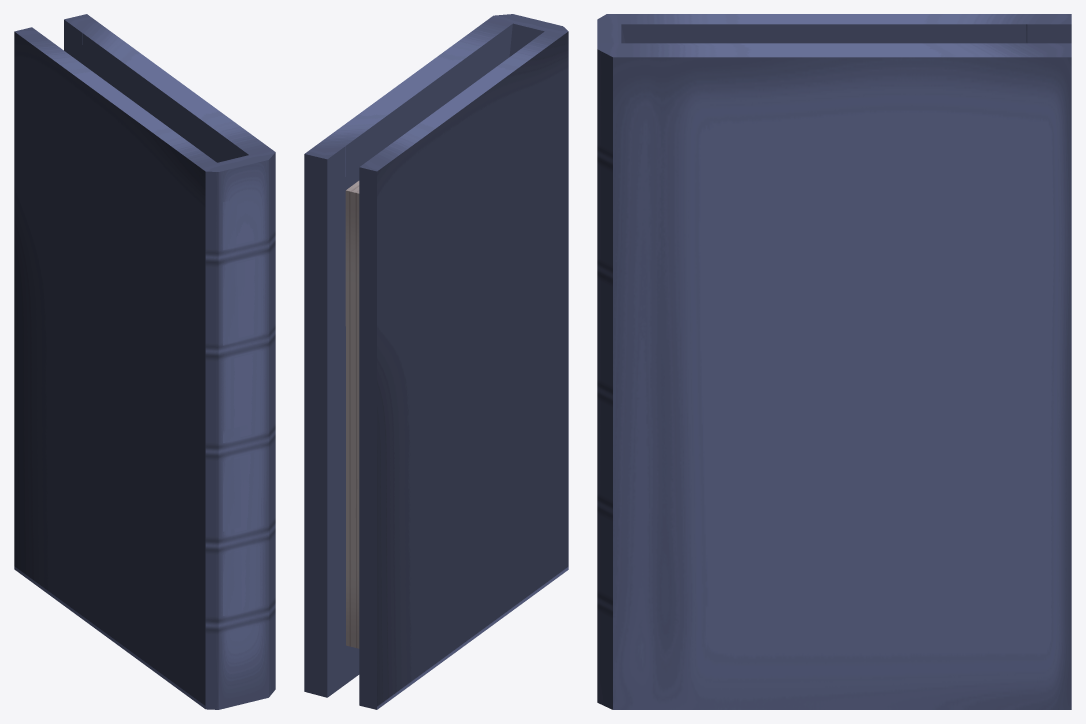
File: Singlebook3.fbx
3 views of the same model, side by side, from view 1: azimuth 30°, elevation 25°; view 2: azimuth 150°, elevation 25°; view 3: azimuth 270°, elevation 25° (orthographic). The views are drawn at different scales.
Visible parts, largest first — view 1: pCube7; view 2: pCube7; view 3: pCube7.
Boxes of the visible parts, <box> form: pCube7: <box>14,14,275,709</box>; pCube7: <box>304,14,568,709</box>; pCube7: <box>597,14,1071,709</box>.
Size of the model in its own units: 0.6619 by 4.68 by 3.08.
1 material, 1 textured.
